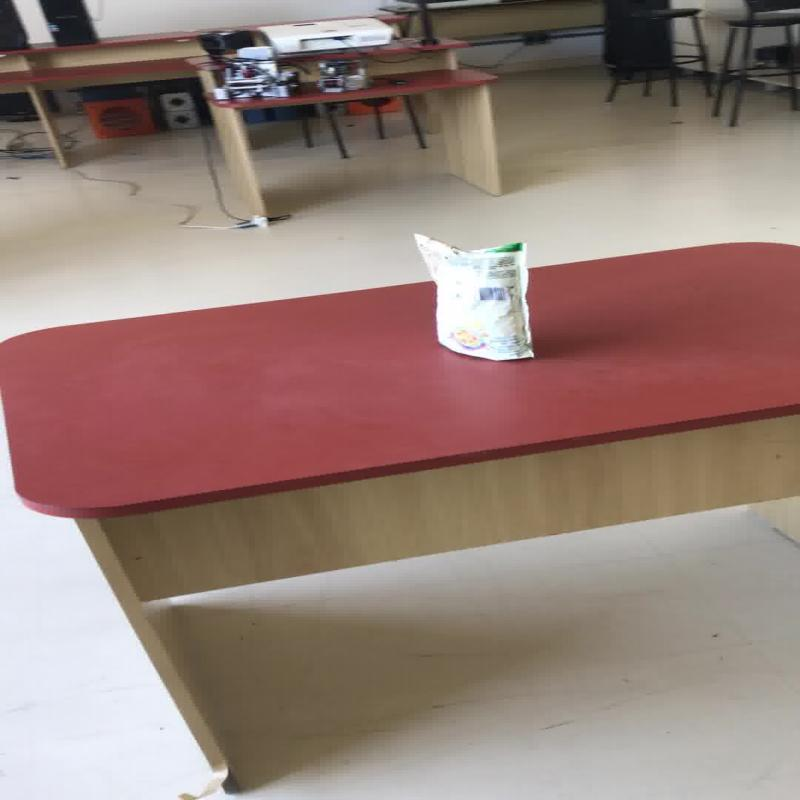corn flakes: (411, 232, 534, 360)
